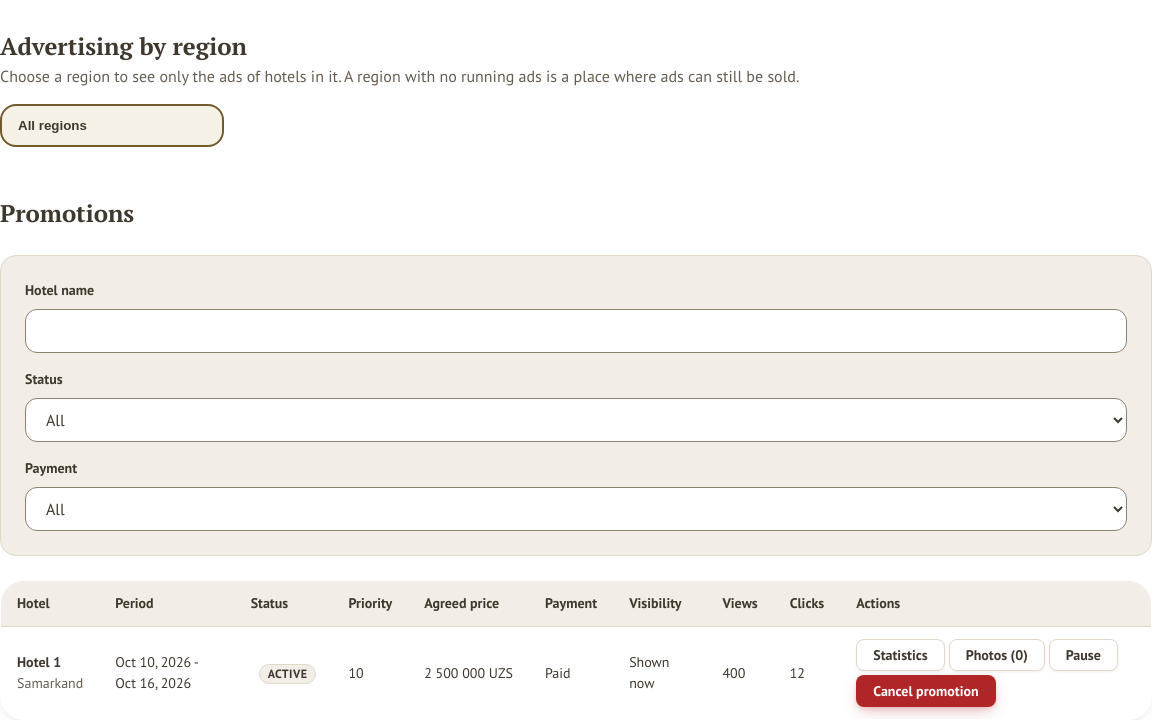
AdminPromotions › cancel › needs a reason, then cancels and reloads
This screenshot has width=1152, height=720.
(page scrolled)
Click the button "Cancel promotion".
click(926, 691)  # box [856, 675, 996, 707]
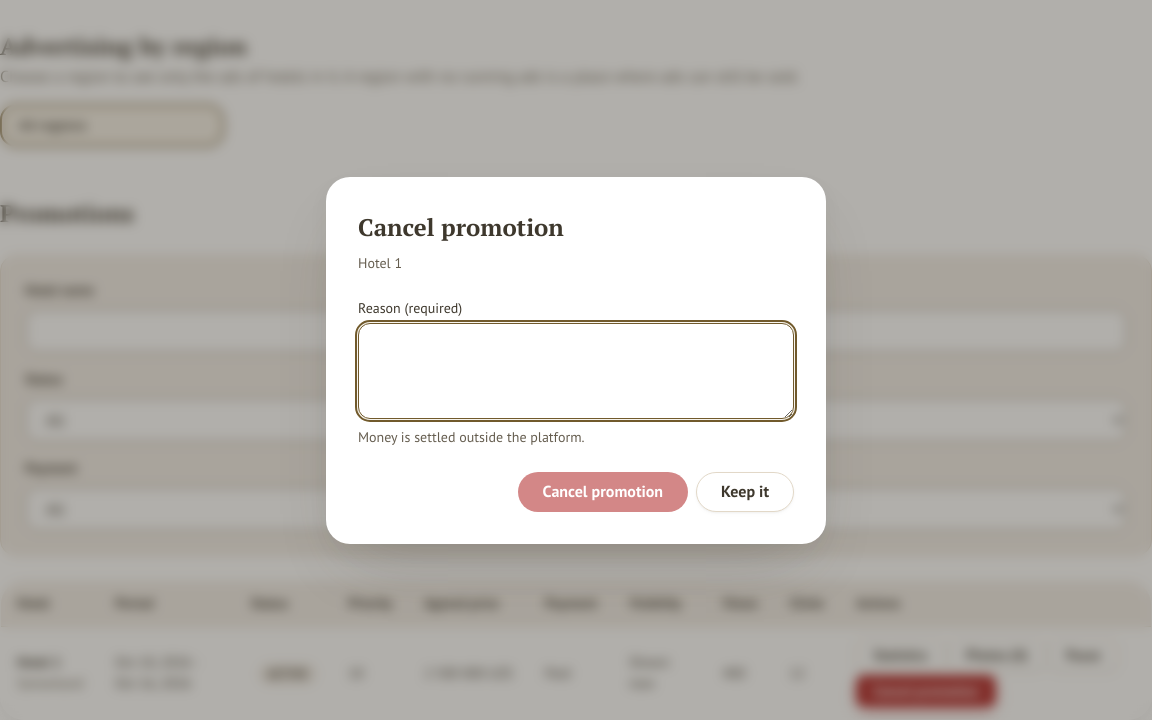
Check: the button "Cancel promotion" is disabled, box [518, 472, 688, 512]
Type "Client withdrew" into the text box labelled "Reason (required)".
click(576, 370); type("Client withdrew")  # box [358, 322, 794, 418]
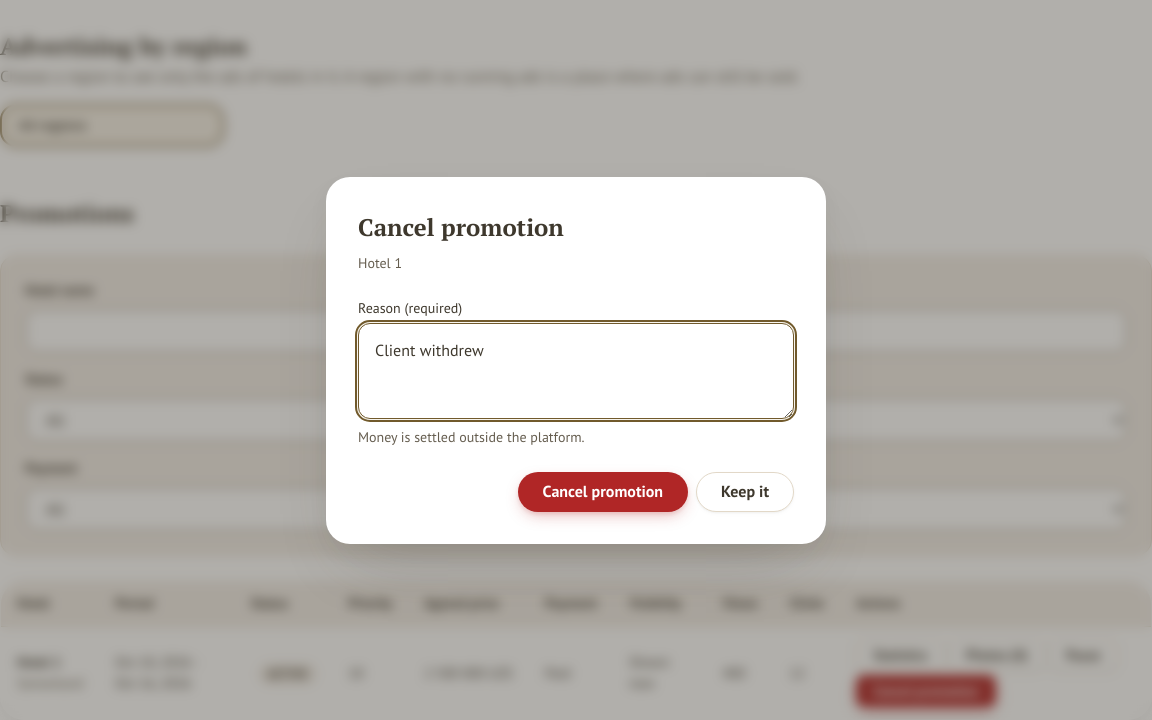
Check: the button "Cancel promotion" is enabled
Click the button "Cancel promotion".
click(603, 492)  # box [518, 472, 688, 512]
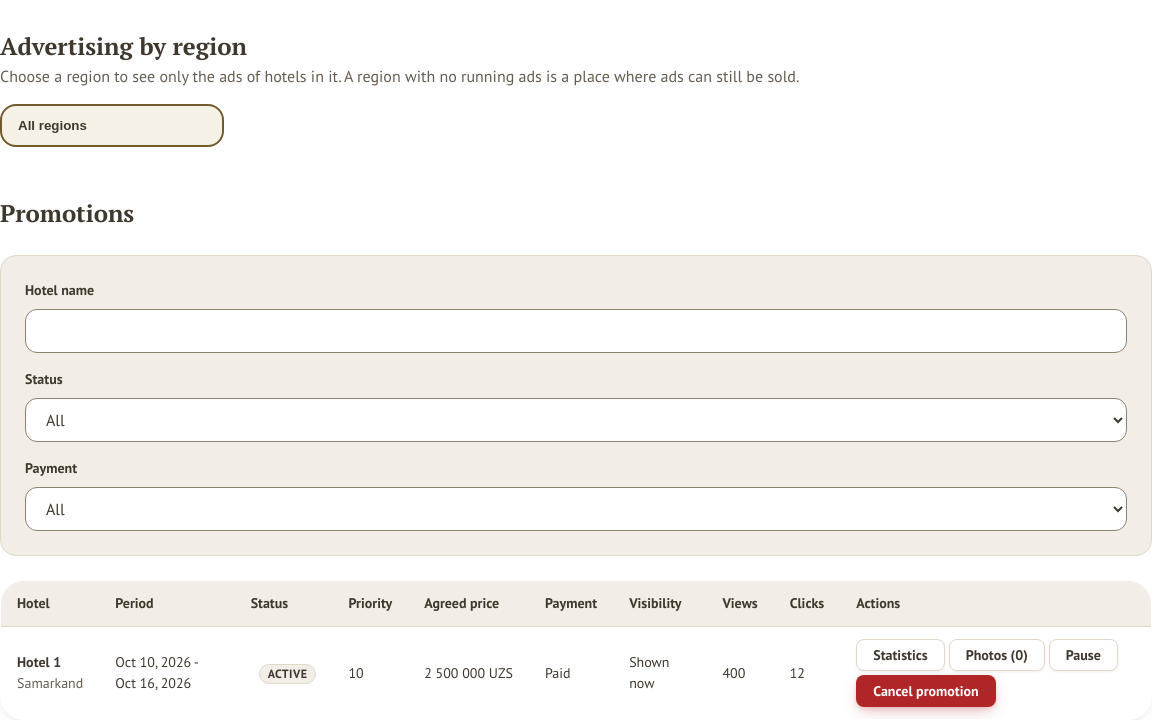
Check: the dialog is gone
